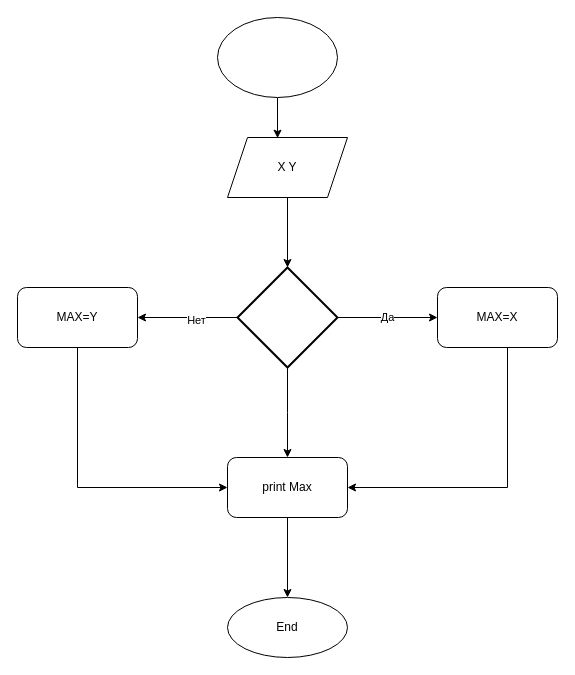
The diagram is 575 pixels wide and 675 high, and some of its shapes have lost their labels. Each missing label, with the centre of its shape:
Start: [277,57]
X>Y: [287,317]
